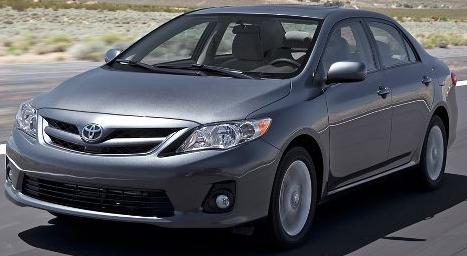front_view: (10, 95, 279, 224)
headlight: (161, 116, 272, 157)
side_glass: (321, 25, 416, 69)
